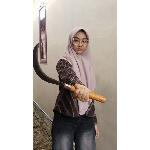Celurit: (33, 38, 101, 106)
